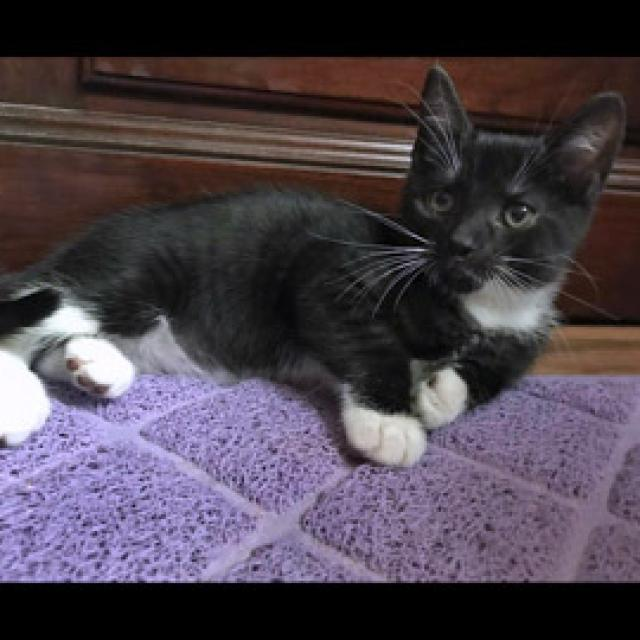Tuxedo: (0, 61, 631, 472)
